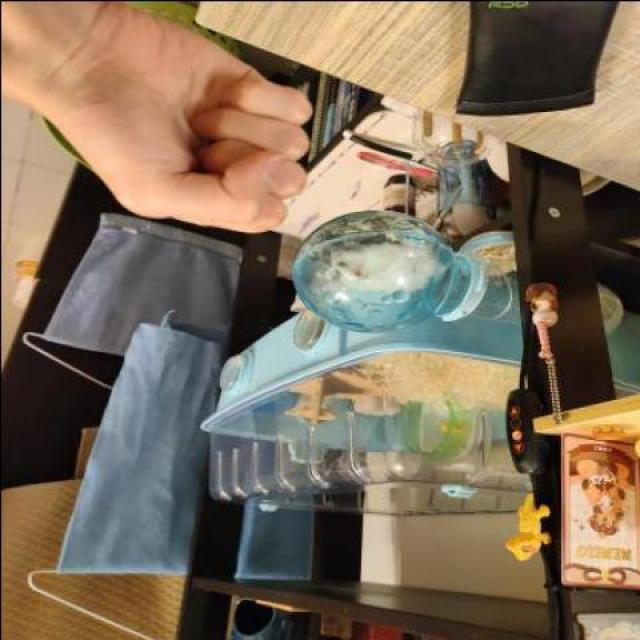Closed Hand: (0, 0, 331, 256)
